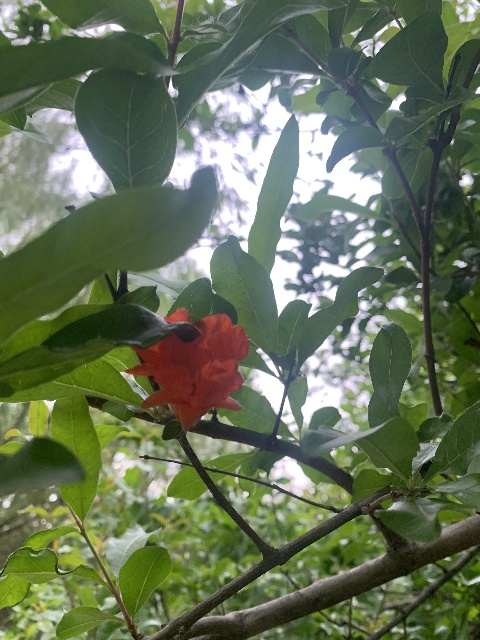flower: (125, 307, 250, 433)
